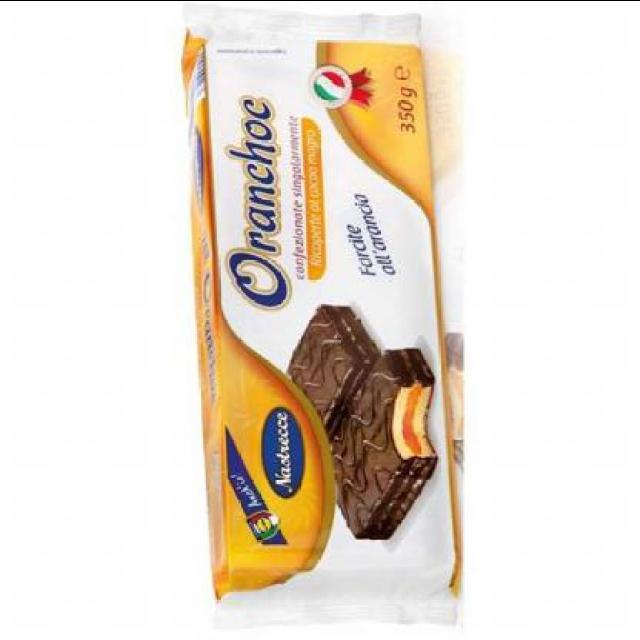Merendine: (180, 1, 463, 630)
